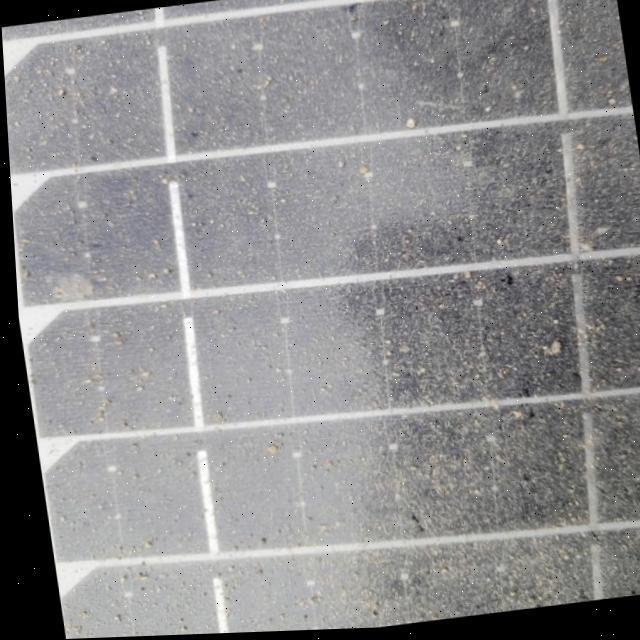Surface Contaminant: (1, 0, 640, 638)
